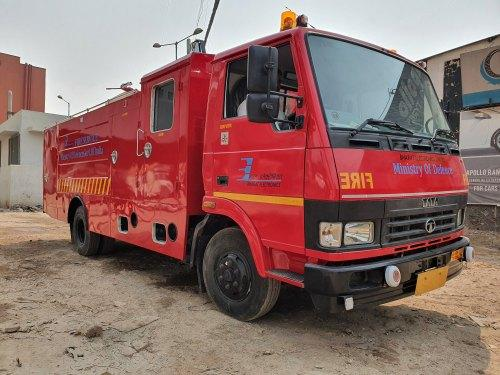Emergency-Vehicles: (43, 43, 464, 297)
